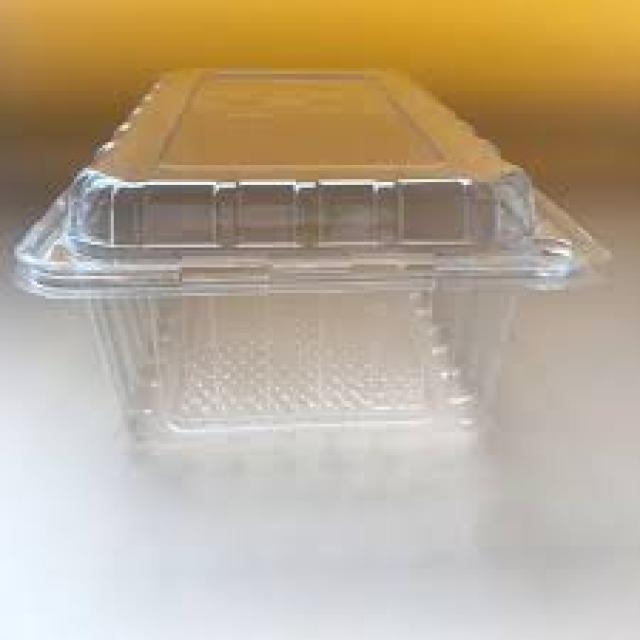disposable: (16, 35, 622, 482)
